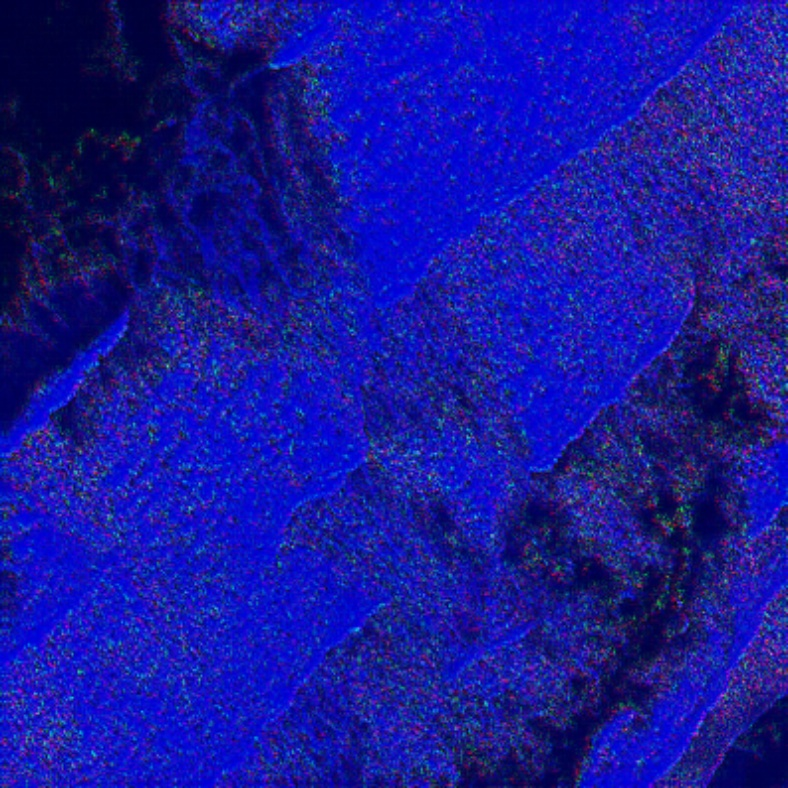rip_current: (95, 134, 538, 533)
